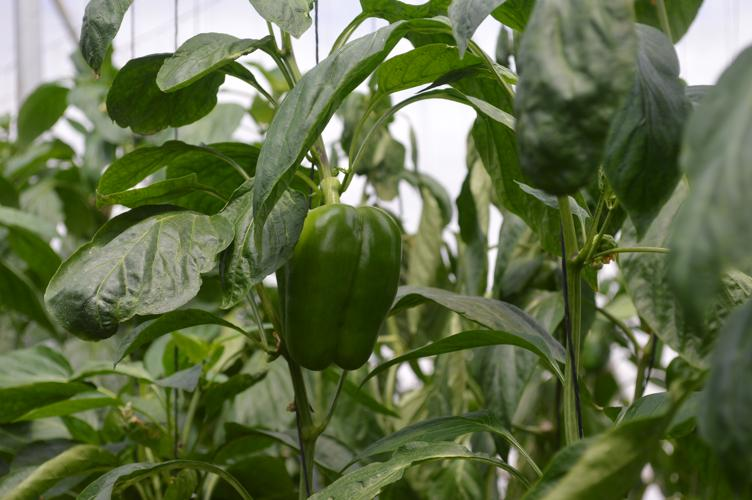BellPepper: (270, 203, 410, 365)
